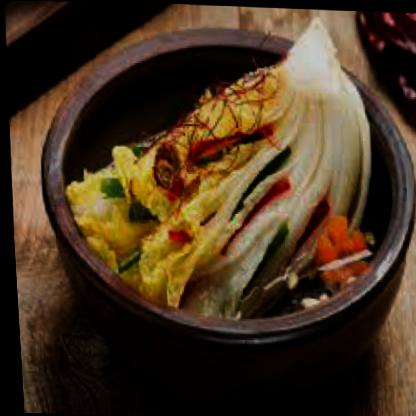baek Kimchi: (60, 12, 383, 337)
